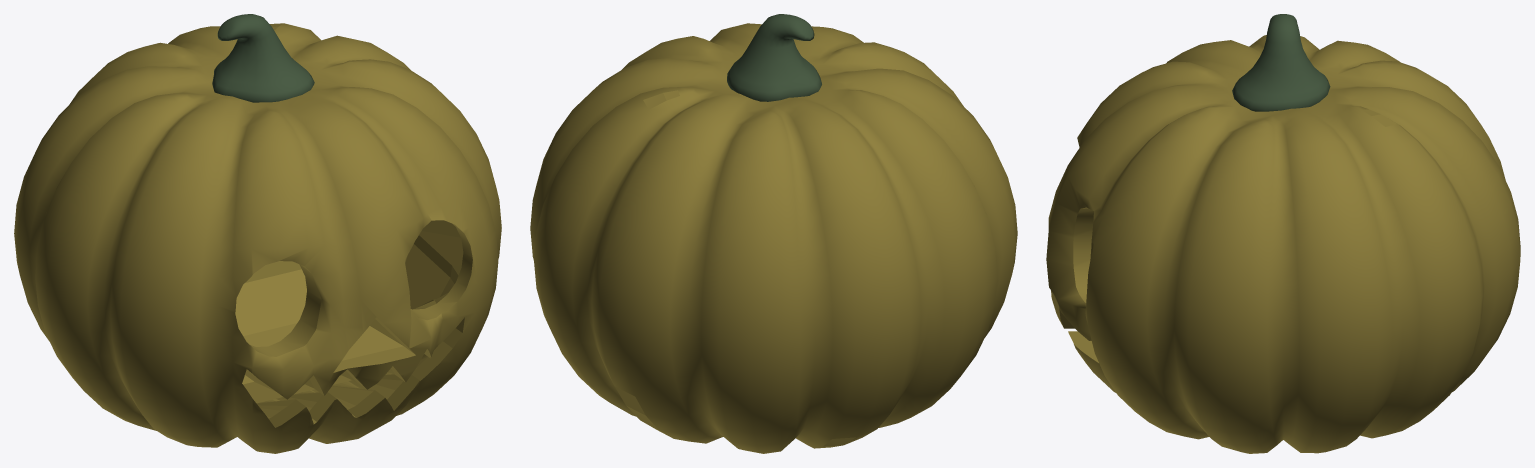
File: jack_o'lantern1.fbx
3 views of the same model, side by side, from view 1: azimuth 30°, elevation 25°; view 2: azimuth 150°, elevation 25°; view 3: azimuth 270°, elevation 25° (orthographic). The views are drawn at different scales.
Visible parts, largest first — view 1: polySurface3; view 2: polySurface3; view 3: polySurface3.
Boxes of the visible parts, bbox=[...] form: polySurface3: bbox=[14, 14, 501, 453]; polySurface3: bbox=[530, 14, 1017, 453]; polySurface3: bbox=[1046, 14, 1520, 453].
Bounding box in the file's own units: 1.88 × 1.67 × 1.88.
